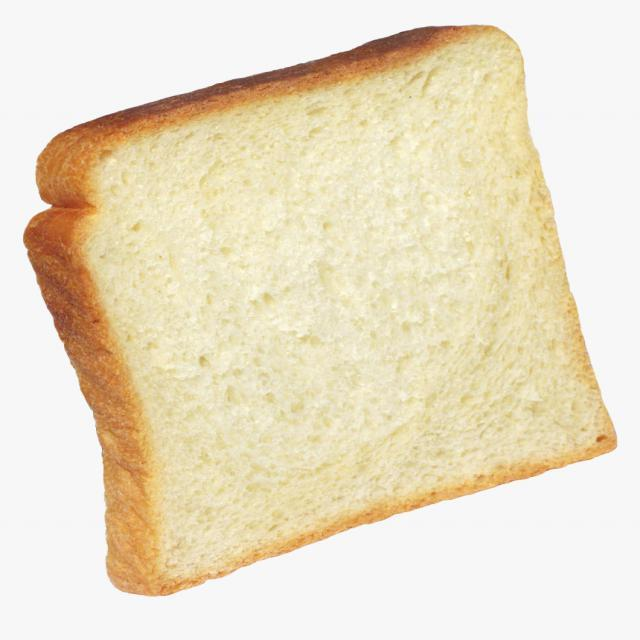Bread: (28, 24, 616, 592)
